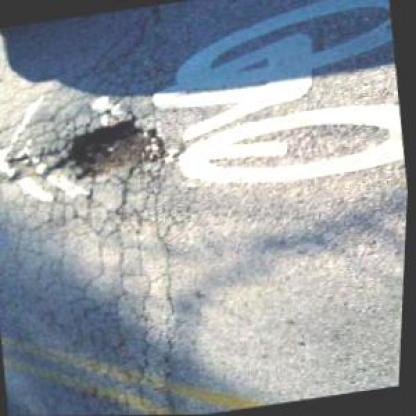pothole: (51, 110, 182, 190)
